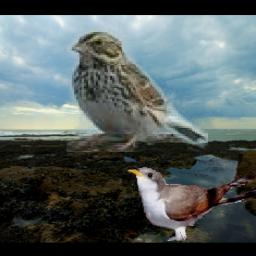Cuckoo: (125, 166, 256, 241)
Sparrow: (66, 29, 208, 153)
